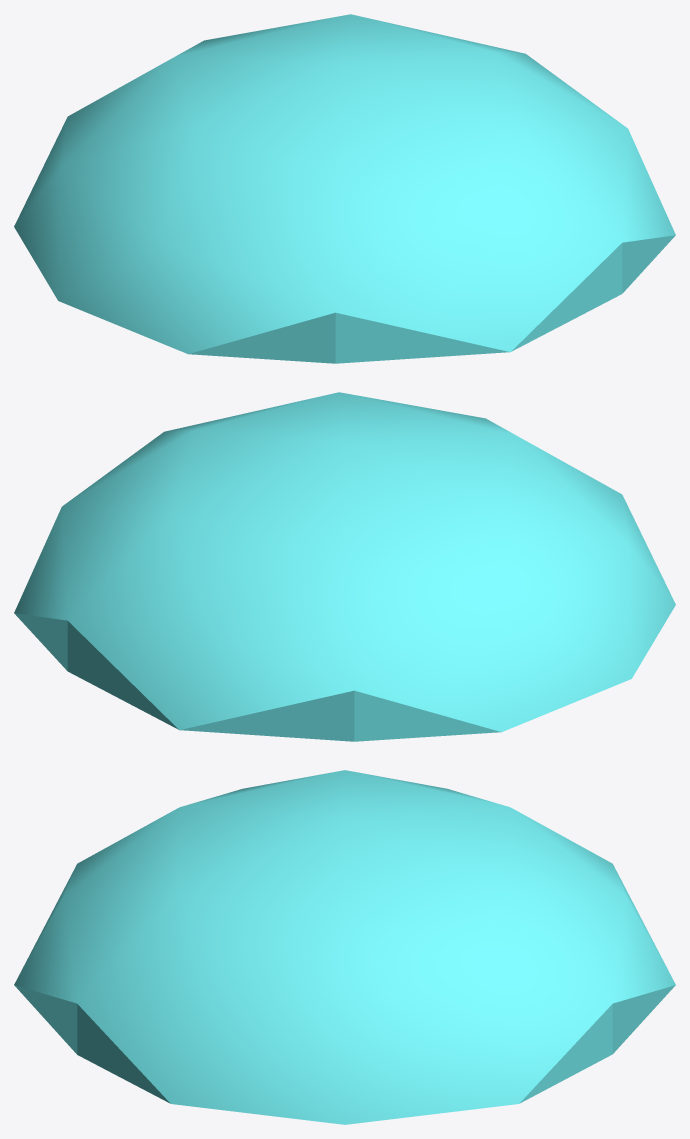
Rendered from Roof_WindowSphere_01.fbx.
3 views of the same model, one above another, from view 1: azimuth 30°, elevation 25°; view 2: azimuth 150°, elevation 25°; view 3: azimuth 270°, elevation 25° (orthographic).
Parts seen in each view (by area): view 1: Roof_WindowSphere_01; view 2: Roof_WindowSphere_01; view 3: Roof_WindowSphere_01.
Boxes of the visible parts, bbox=[...] form: Roof_WindowSphere_01: bbox=[14, 14, 675, 363]; Roof_WindowSphere_01: bbox=[14, 392, 675, 741]; Roof_WindowSphere_01: bbox=[14, 770, 675, 1124].
Bounding box in the file's own units: 40 × 11.08 × 40.
